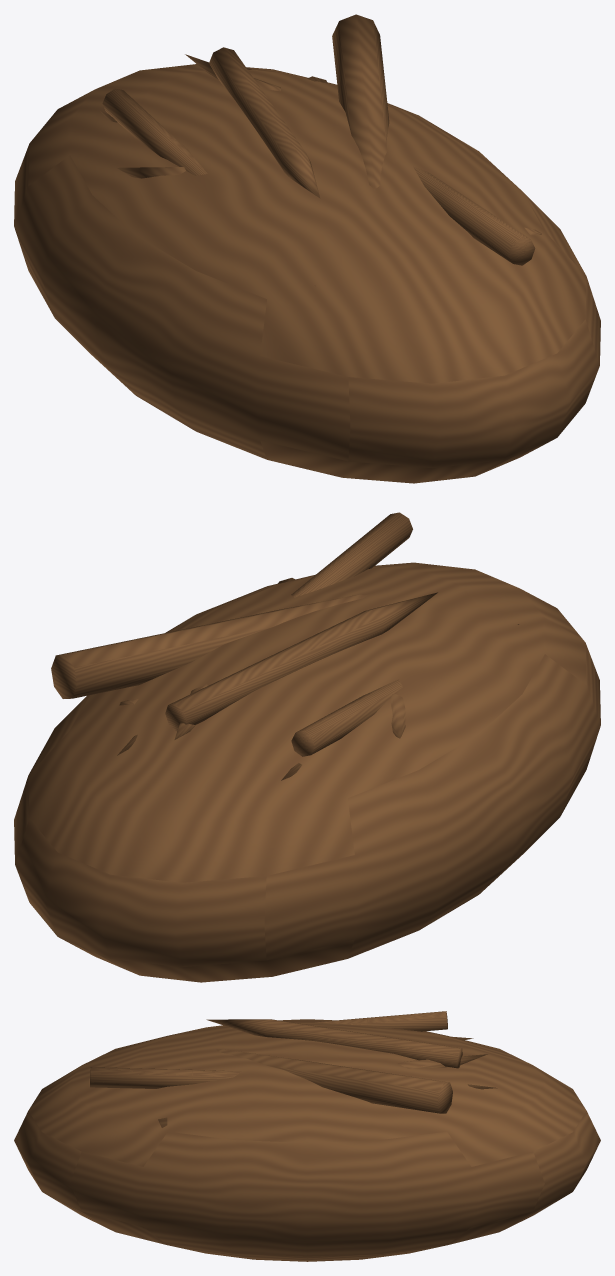
File: BeaverDam.fbx
3 views of the same model, one above another, from view 1: azimuth 30°, elevation 25°; view 2: azimuth 150°, elevation 25°; view 3: azimuth 270°, elevation 25° (orthographic). The views are drawn at different scales.
Parts seen in each view (by area): view 1: BeaverDam; view 2: BeaverDam; view 3: BeaverDam.
Boxes of the visible parts, box(x1,y1,x2,y2) form: BeaverDam: box(14, 14, 600, 483); BeaverDam: box(14, 512, 600, 982); BeaverDam: box(14, 1011, 600, 1261).
Size of the model in its own units: 260 by 169 by 440.
Materials: 1 (1 with a texture image).
